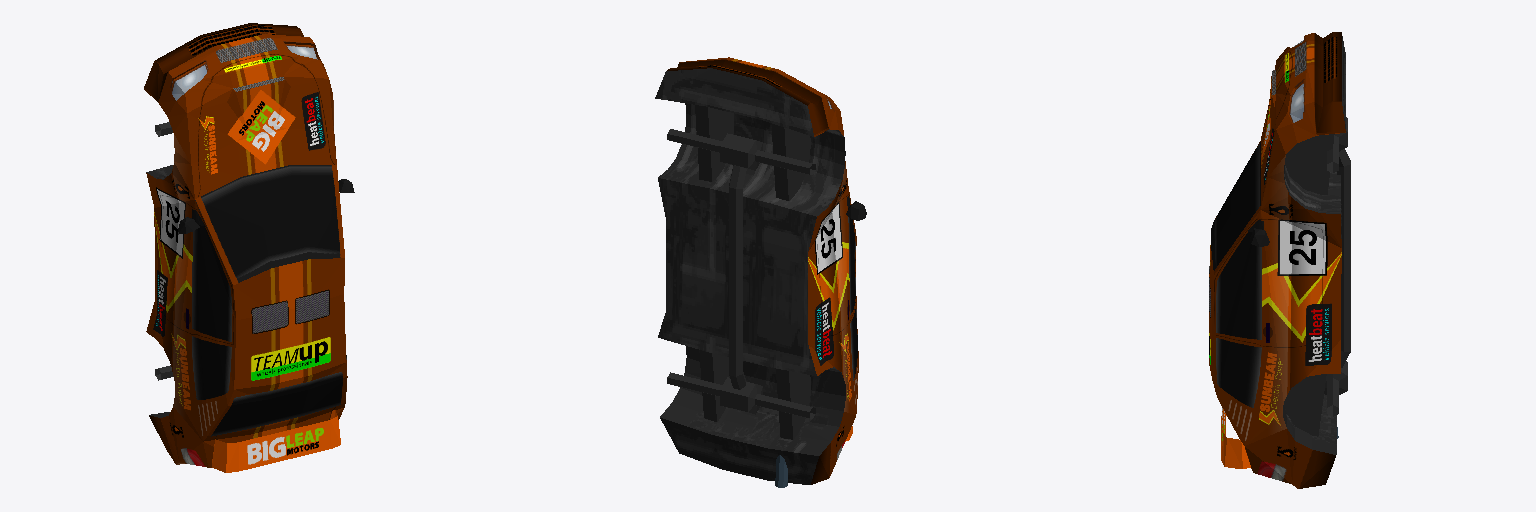
3 renders of one model, left to right at view 1: azimuth 30°, elevation 25°; view 2: azimuth 150°, elevation 25°; view 3: azimuth 270°, elevation 25°, orthographic.
Parts seen in each view (by area): view 1: seat_seat.0; view 2: seat_seat.0; view 3: seat_seat.0.
Boxes of the visible parts, x1=… form: seat_seat.0: x1=144, y1=23, x2=354, y2=472; seat_seat.0: x1=655, y1=57, x2=866, y2=487; seat_seat.0: x1=1209, y1=32, x2=1350, y2=488.
Bounding box in the file's own units: 161 × 360 × 113.
Materials: 1 (1 with a texture image).